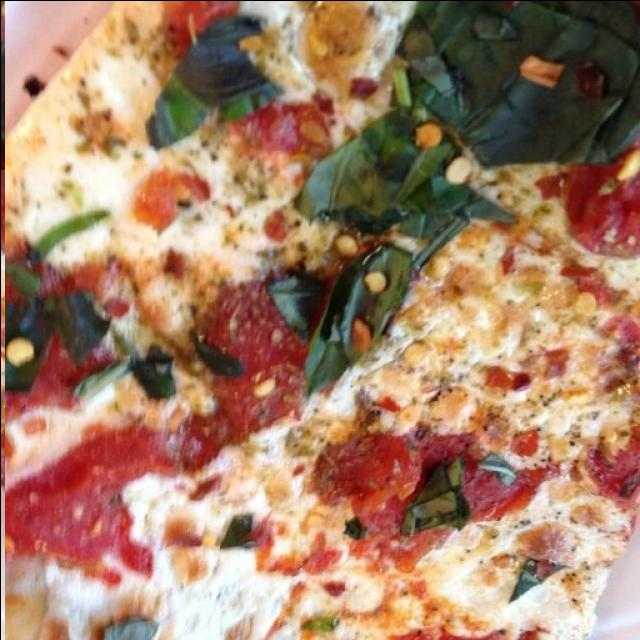basil: (0, 0, 247, 169), (128, 113, 350, 265), (364, 12, 499, 148), (230, 245, 346, 398), (534, 292, 640, 393), (534, 208, 640, 296), (174, 457, 247, 536), (510, 348, 574, 397), (466, 342, 515, 400), (80, 560, 135, 604), (406, 334, 452, 378), (385, 507, 423, 550), (485, 614, 545, 640)
pizza: (4, 0, 640, 639)
